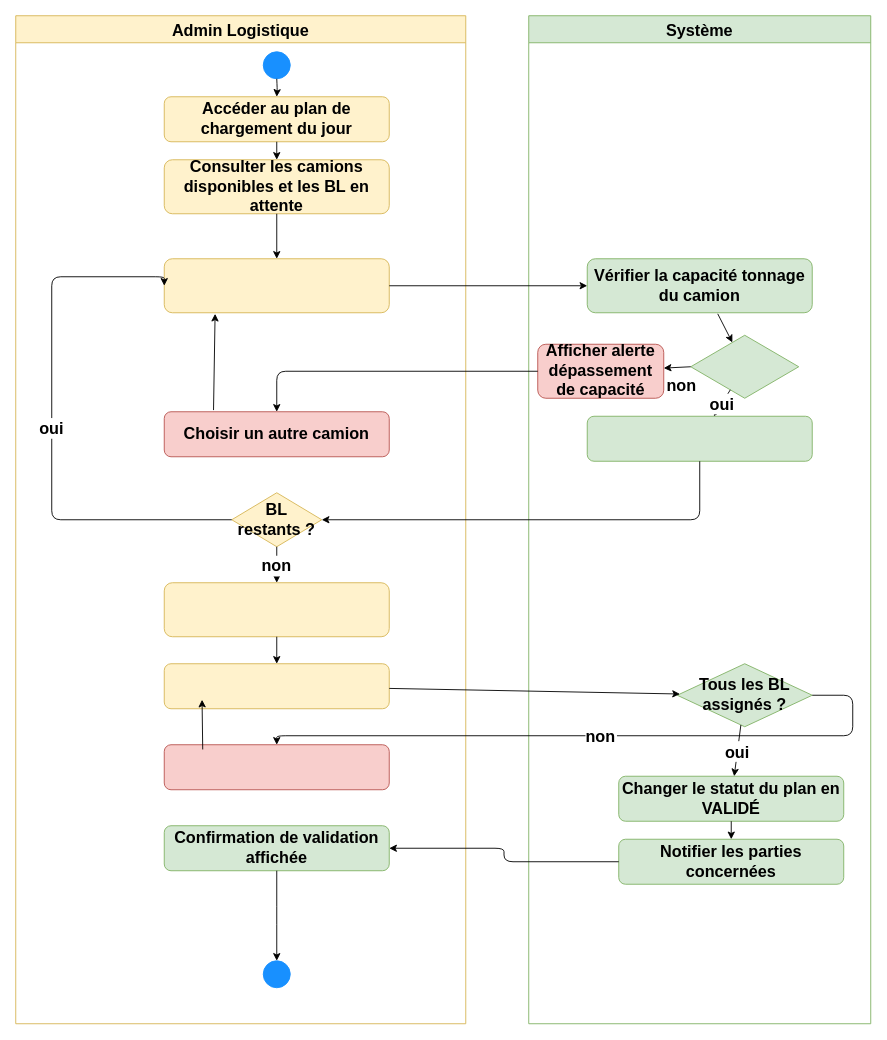
The diagram is 887 pixels wide and 1040 high, and some of its shapes have lost their labels. Each missing label, with the centre of its shape:
Affecter le BL au camion: point 699,438
Capacité suffisante ?: point 744,366
Cliquer sur 'Valider le plan': point 276,686
Compléter l'assignation des BL: point 276,767
Glisser-déposer un BL dans un camion disponible: point 276,285
Saisir la date et heure de RDV d'arrivée du camion: point 276,609
